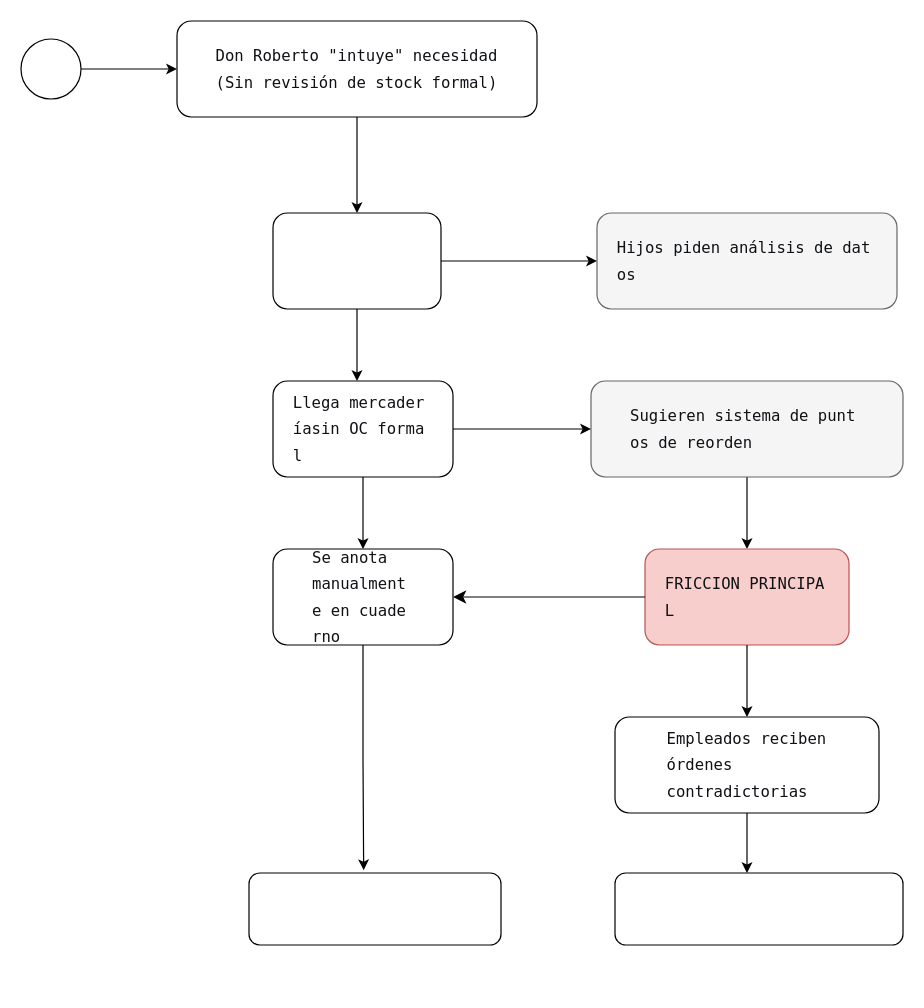
This 924x1008 diagram has some shape labels left out. Each missing label, with the centre of its shape:
"Falta de trazabilidad Quiebres o vencimientos" goes at point 758,908.
"Orden verbal a proveedor" goes at point 356,260.
"Stock real no coincide con lo registrado" goes at point 374,908.
